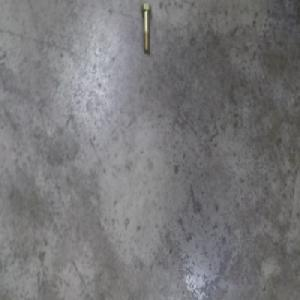Bolt: (141, 9, 154, 57)
